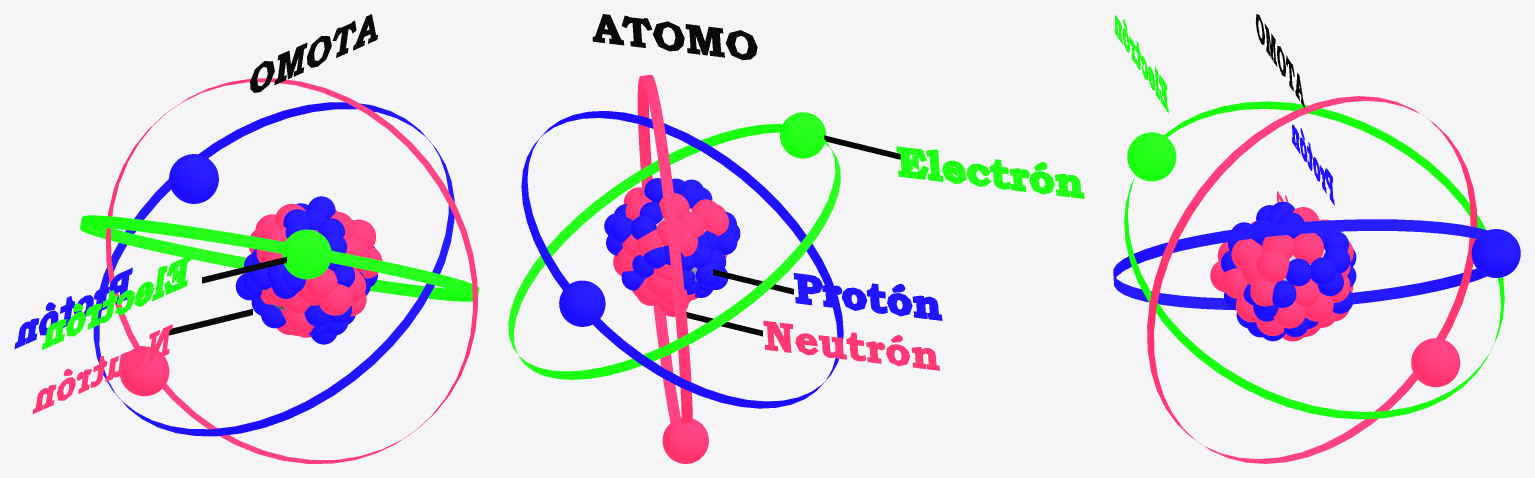
Rendered from atomo.glb.
3 renders of one model, left to right at view 1: azimuth 30°, elevation 25°; view 2: azimuth 150°, elevation 25°; view 3: azimuth 270°, elevation 25°, orthographic. The views are drawn at different scales.
Parts seen in each view (by area): view 1: Círculo_Bezier.002, Círculo_Bezier.001, Círculo_Bezier, Texto, Texto.004, Texto.003, Esfera geodésica.001, Esfera geodésica.003, Texto.001, Esfera geodésica.002, Esfera geodésica.055, Esfera geodésica.052 (+4 smaller); view 2: Círculo_Bezier.002, Círculo_Bezier.001, Círculo_Bezier, Texto, Texto.004, Texto.003, Texto.001, Esfera geodésica.003, Esfera geodésica.002, Esfera geodésica.001; view 3: Círculo_Bezier.001, Círculo_Bezier, Círculo_Bezier.002, Esfera geodésica.003, Esfera geodésica.002, Esfera geodésica.001, Texto, Esfera geodésica.017, Texto.004, Texto.001, Esfera geodésica.022, Esfera geodésica.040 (+10 smaller).
Boxes of the visible parts, left/top/right/bottom form: Círculo_Bezier.002: left=80, top=215, right=479, bottom=301; Círculo_Bezier.001: left=93, top=102, right=454, bottom=436; Círculo_Bezier: left=105, top=78, right=477, bottom=463; Texto: left=42, top=255, right=190, bottom=349; Texto.004: left=250, top=14, right=377, bottom=92; Texto.003: left=32, top=324, right=172, bottom=413; Esfera geodésica.001: left=169, top=154, right=218, bottom=203; Esfera geodésica.003: left=282, top=229, right=331, bottom=279; Texto.001: left=14, top=267, right=132, bottom=349; Esfera geodésica.002: left=120, top=346, right=169, bottom=396; Esfera geodésica.055: left=319, top=284, right=351, bottom=315; Esfera geodésica.052: left=305, top=268, right=337, bottom=299; Círculo_Bezier.002: left=508, top=124, right=840, bottom=379; Círculo_Bezier.001: left=521, top=111, right=843, bottom=408; Círculo_Bezier: left=637, top=74, right=692, bottom=423; Texto: left=896, top=146, right=1084, bottom=198; Texto.004: left=592, top=14, right=757, bottom=60; Texto.003: left=763, top=320, right=939, bottom=370; Texto.001: left=793, top=273, right=942, bottom=320; Esfera geodésica.003: left=780, top=112, right=826, bottom=158; Esfera geodésica.002: left=662, top=418, right=708, bottom=463; Esfera geodésica.001: left=559, top=280, right=605, bottom=326; Círculo_Bezier.001: left=1113, top=219, right=1503, bottom=309; Círculo_Bezier: left=1147, top=96, right=1477, bottom=463; Círculo_Bezier.002: left=1124, top=101, right=1504, bottom=419; Esfera geodésica.003: left=1127, top=132, right=1176, bottom=181; Esfera geodésica.002: left=1411, top=338, right=1460, bottom=387; Esfera geodésica.001: left=1471, top=229, right=1520, bottom=277; Texto: left=1114, top=15, right=1168, bottom=113; Esfera geodésica.017: left=1256, top=249, right=1289, bottom=282; Texto.004: left=1255, top=14, right=1304, bottom=107; Texto.001: left=1292, top=124, right=1334, bottom=205; Esfera geodésica.022: left=1293, top=233, right=1323, bottom=263; Esfera geodésica.040: left=1231, top=239, right=1262, bottom=269.
Size of the model in its own units: 8.3 by 6.75 by 5.92.
